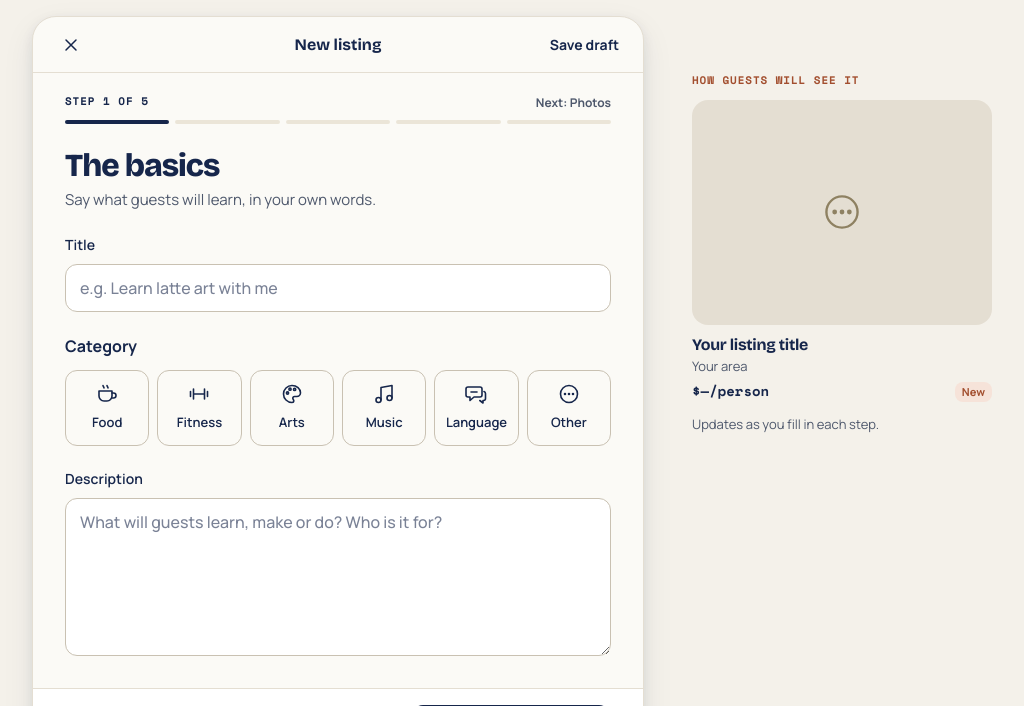
Test: CreateListing steps › reaches the price step as step 3 with Location next, like the mockup
Type "Learn latte art with me" into the field labelled "Title" at (338, 288), box [65,264,611,312]
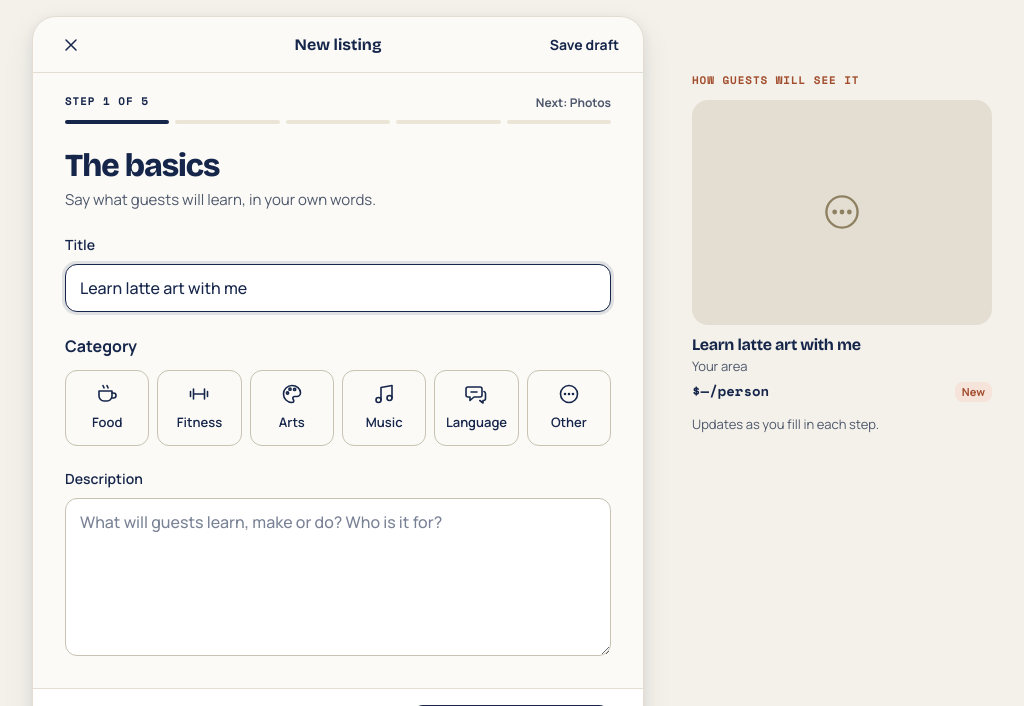
Click the radio button labelled "Food" at (107, 408), box [65,370,149,446]
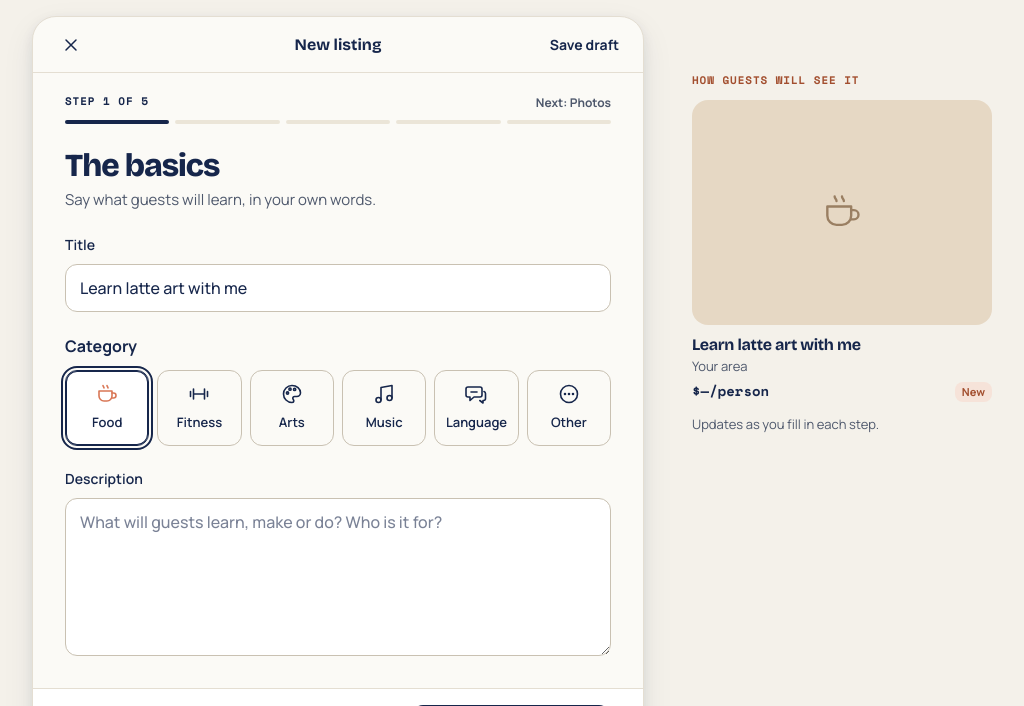
Type "Pull your first rosetta." into the text box labelled "Description" at (338, 577), box [65,498,611,656]
(page scrolled)
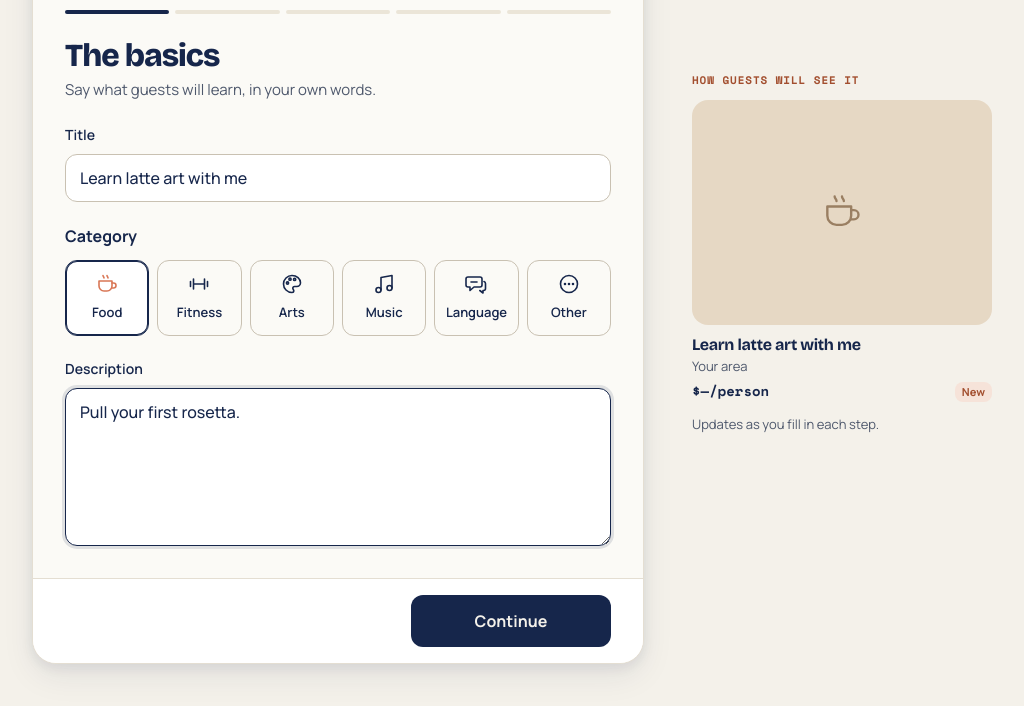
Click the button "Continue" at (511, 621), box [411,595,611,647]
(page scrolled)
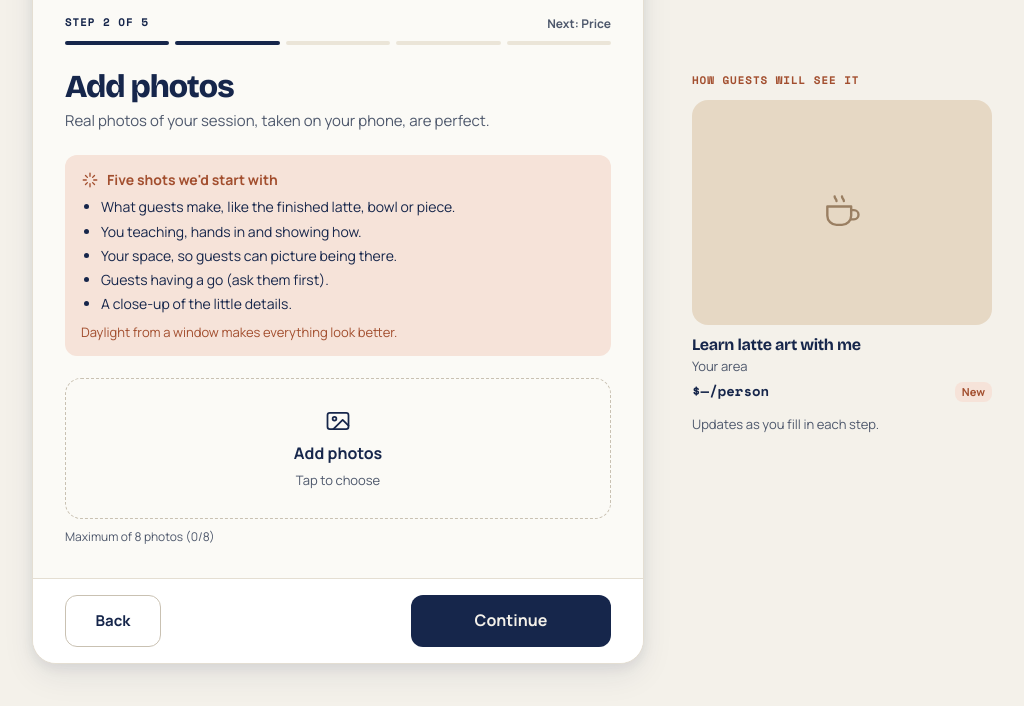
Click the button "Continue" at (511, 621), box [411,595,611,647]
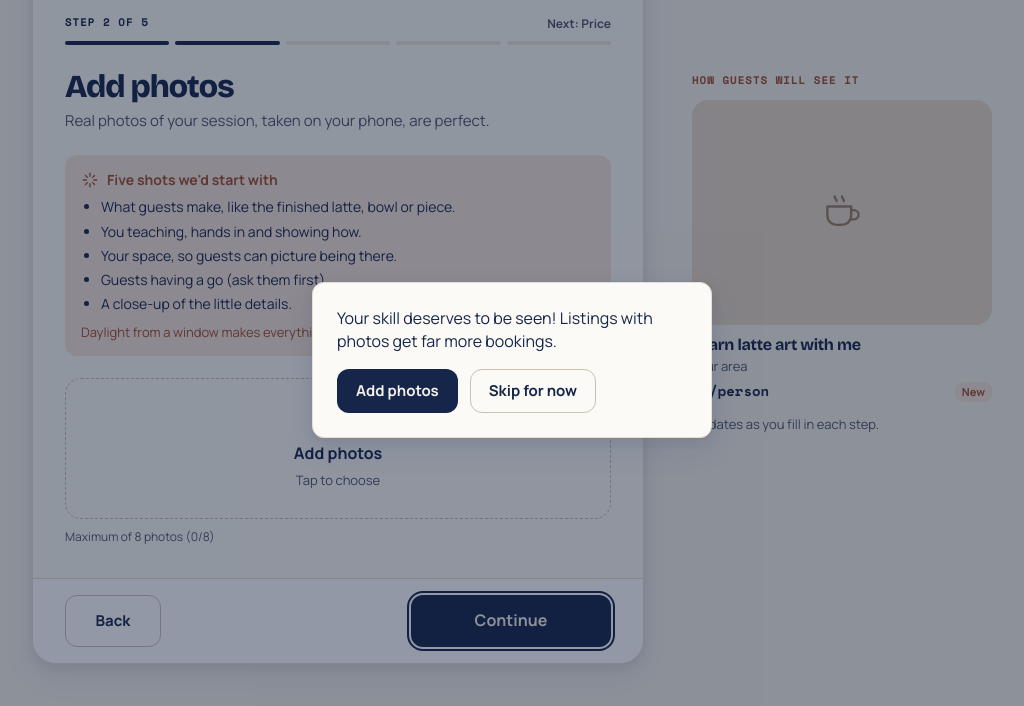
Click the button "Skip for now" at (533, 391), box [470,369,596,413]
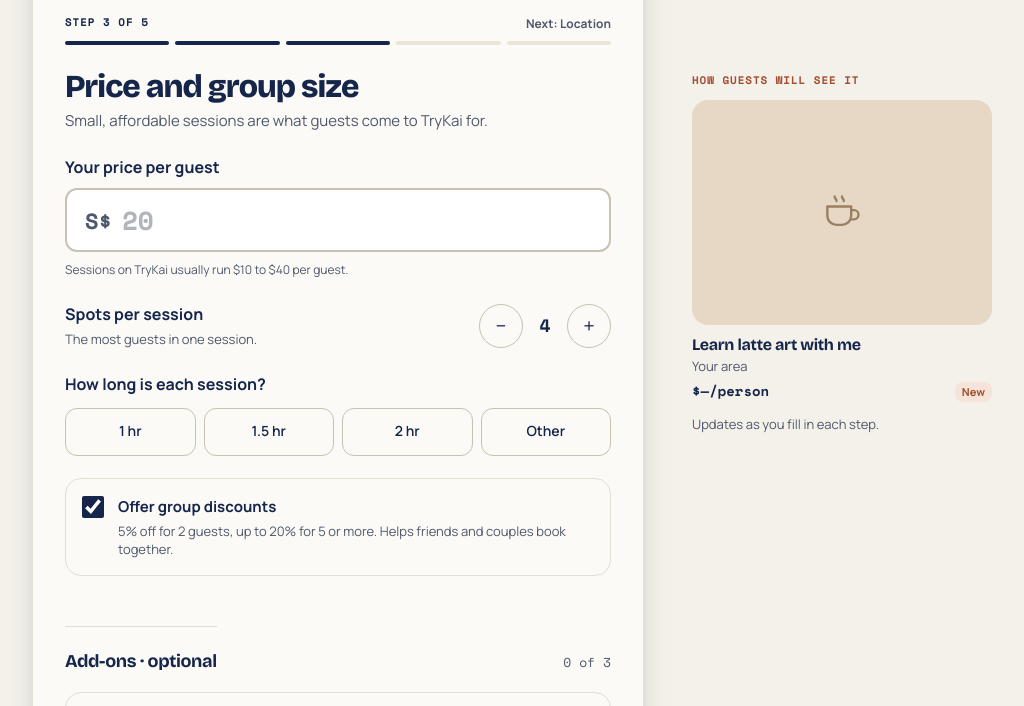
Expected: the text "Step 3 of 5" is shown, [65,14,149,33]
Expected: the text "Next: Location" is shown, [526,14,611,33]
